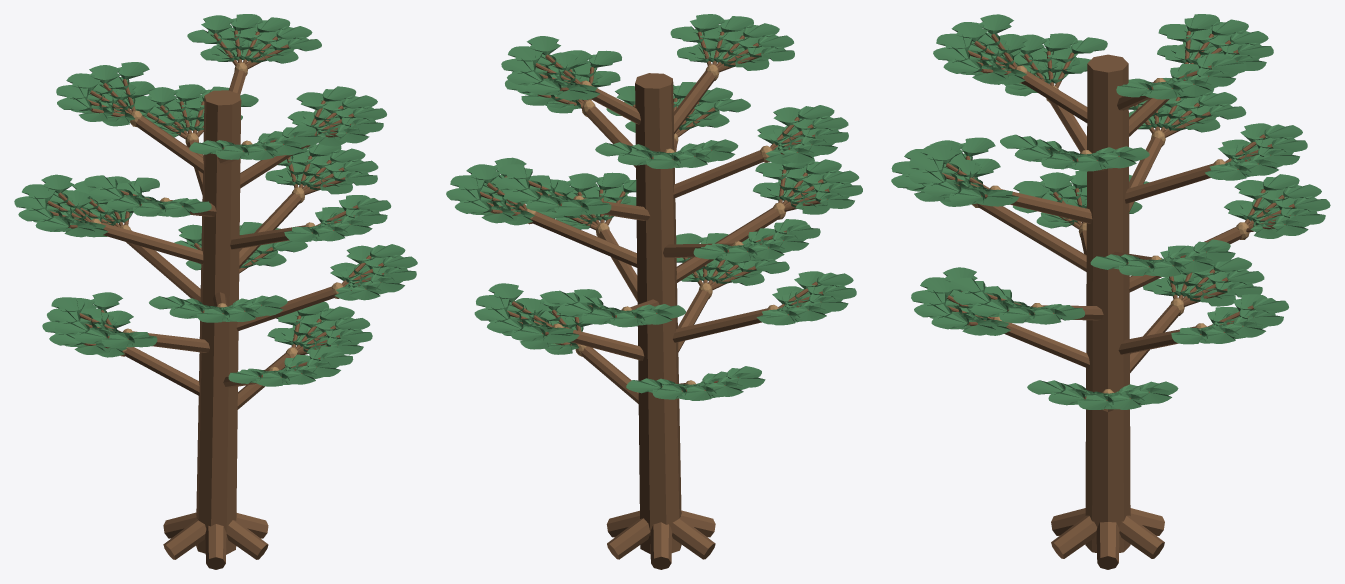
3 views of the same model, side by side, from view 1: azimuth 30°, elevation 25°; view 2: azimuth 150°, elevation 25°; view 3: azimuth 270°, elevation 25° (orthographic). The views are drawn at different scales.
Parts seen in each view (by area): view 1: WW-147 Lobed leaf pedunculate oak tree batched; view 2: WW-147 Lobed leaf pedunculate oak tree batched; view 3: WW-147 Lobed leaf pedunculate oak tree batched.
Part boxes in pixels (box(x1,y1,x2,y2)): WW-147 Lobed leaf pedunculate oak tree batched: box(14, 14, 417, 569); WW-147 Lobed leaf pedunculate oak tree batched: box(446, 14, 862, 569); WW-147 Lobed leaf pedunculate oak tree batched: box(891, 14, 1330, 569).
Bounding box in the file's own units: 1.99 × 2.62 × 2.04.
